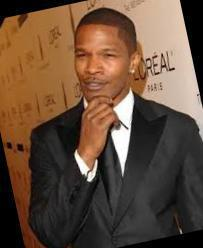Sober: (77, 27, 129, 97)
